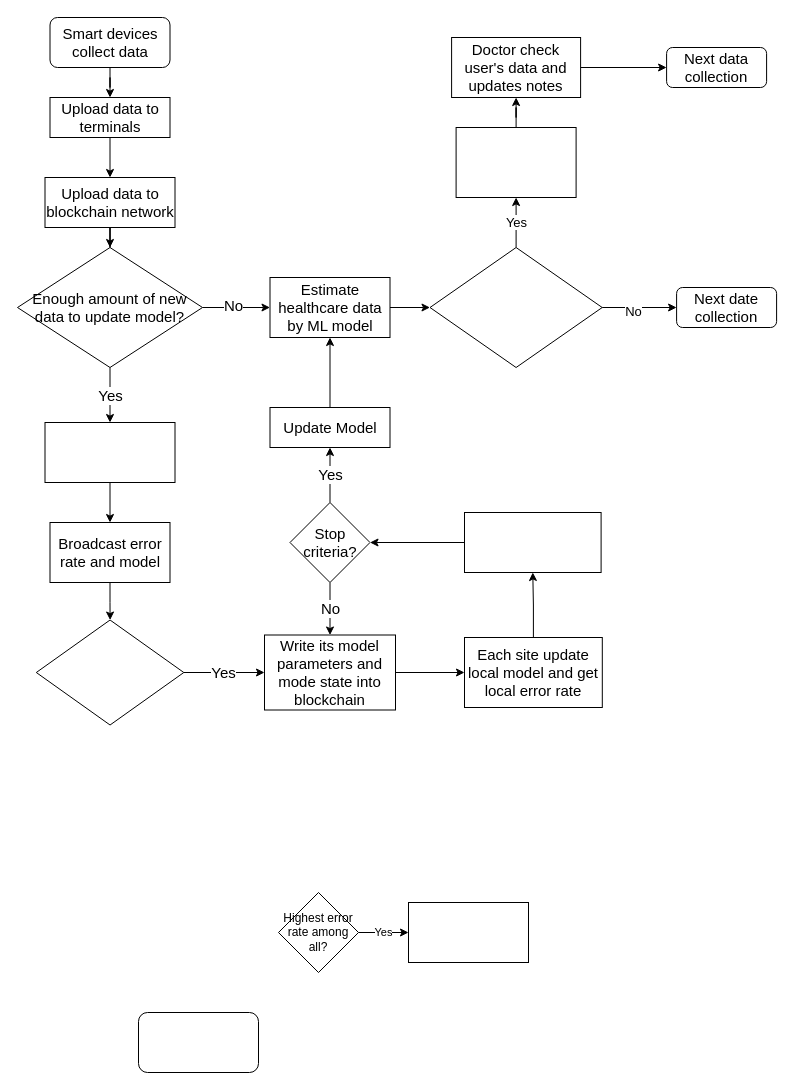
This 795x1090 diagram has some shape labels left out. The shapes that lost their labels are listed below. From the top down, each one's box as (x1, y1, x2, y2) in pixels, then its label:
(455, 126, 576, 198): Authorize hospital to check user EHR
(429, 246, 602, 368): Any potential health problem?
(44, 422, 175, 482): Computing site training on own ledger's data set
(464, 512, 601, 572): broadcast error rate in the network
(35, 619, 184, 725): Lowest error rate among all?
(408, 902, 528, 962): train the model by its own ledger's data set
(138, 1012, 258, 1072): Use current model to do health monitoring
